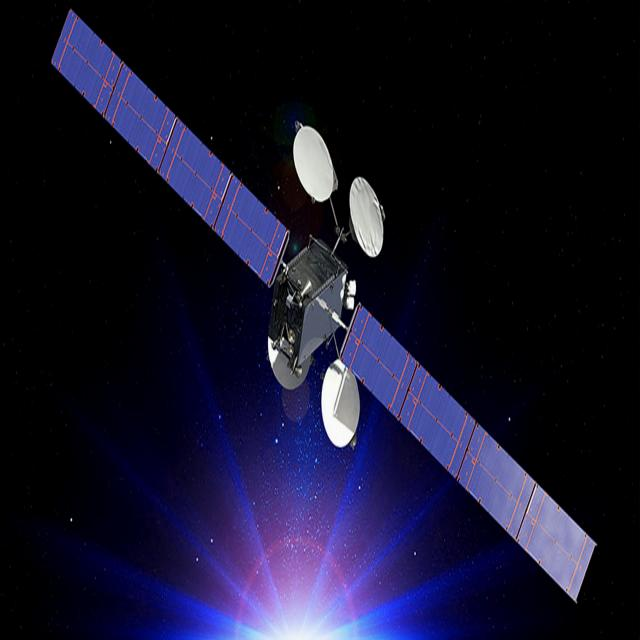medium_debris: (45, 0, 602, 640)
